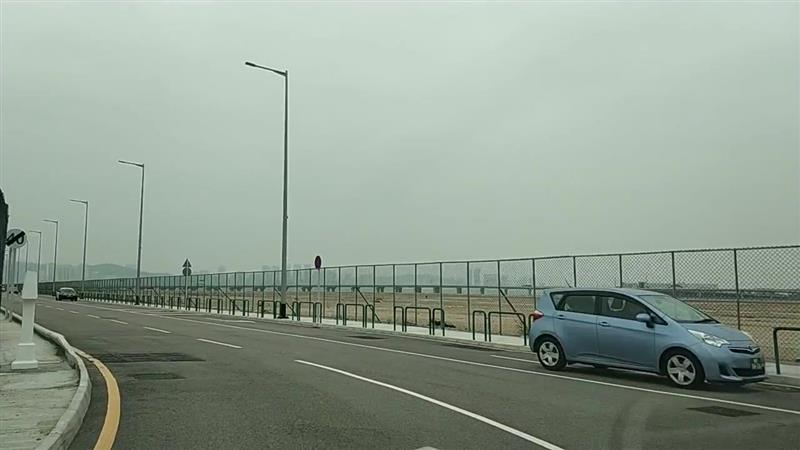car: (526, 287, 770, 390), (54, 286, 80, 302)
